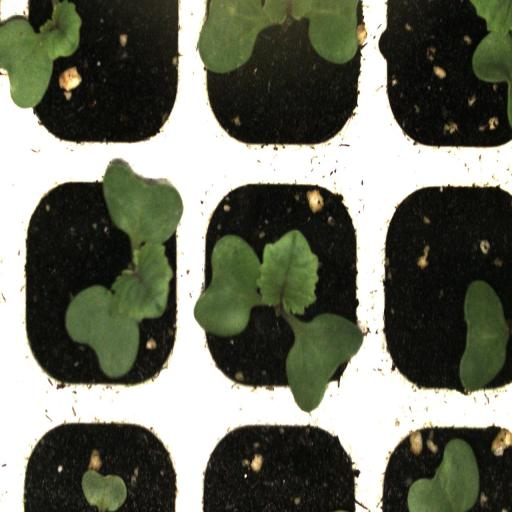seedling: (8, 164, 192, 402), (191, 166, 368, 400), (194, 0, 369, 164)
